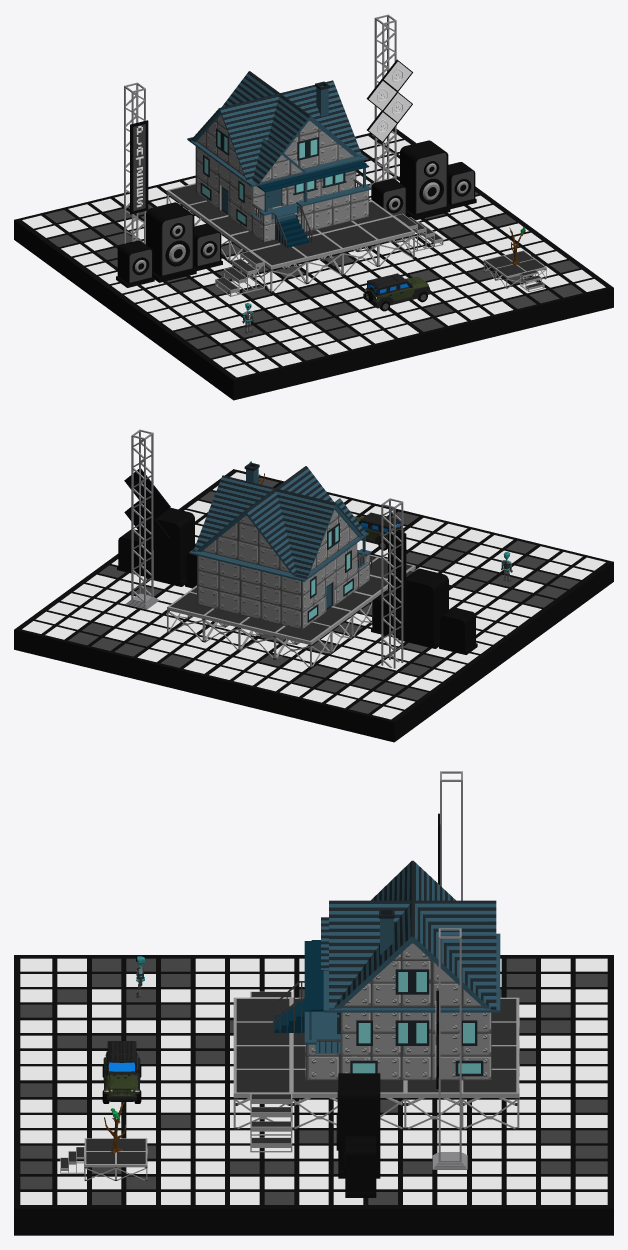
3 renders of one model, top to bottom at view 1: azimuth 30°, elevation 25°; view 2: azimuth 150°, elevation 25°; view 3: azimuth 270°, elevation 25°, orthographic. The views are drawn at different scales.
Parts seen in each view (by area): view 1: Cube.008, Cube.078, VEHICLES_JEEP; view 2: Cube.008, Cube.078, VEHICLES_JEEP; view 3: Cube.008, Cube.078, VEHICLES_JEEP.
Part boxes in pixels (<box>): Cube.008: <box>14,14,613,400</box>; Cube.078: <box>187,71,371,248</box>; VEHICLES_JEEP: <box>363,273,430,311</box>; Cube.008: <box>14,429,613,742</box>; Cube.078: <box>189,462,372,629</box>; VEHICLES_JEEP: <box>354,512,404,550</box>; Cube.008: <box>14,771,613,1235</box>; Cube.078: <box>272,860,500,1080</box>; VEHICLES_JEEP: <box>102,1041,141,1103</box>.
Bounding box in the file's own units: 4000 × 1980 × 4000.
Materials: 39 (3 with a texture image).
